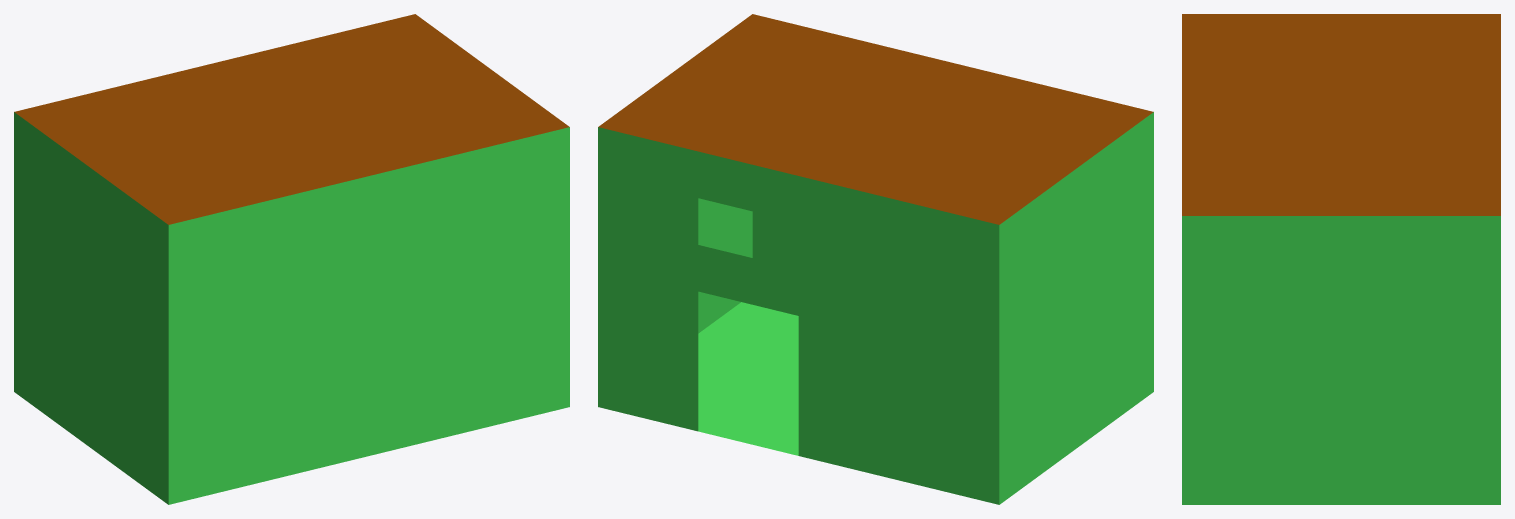
Rendered from green.gltf.
The picture shows the model from 3 angles, left to right: view 1: azimuth 30°, elevation 25°; view 2: azimuth 150°, elevation 25°; view 3: azimuth 270°, elevation 25°; orthographic projection. The views are drawn at different scales.
Visible parts, largest first — view 1: Cube; view 2: Cube; view 3: Cube.
Boxes of the visible parts, left/top/right/bottom form: Cube: left=14, top=14, right=569, bottom=504; Cube: left=598, top=14, right=1153, bottom=504; Cube: left=1182, top=14, right=1500, bottom=504.
Bounding box in the file's own units: 6 × 4 × 4.
